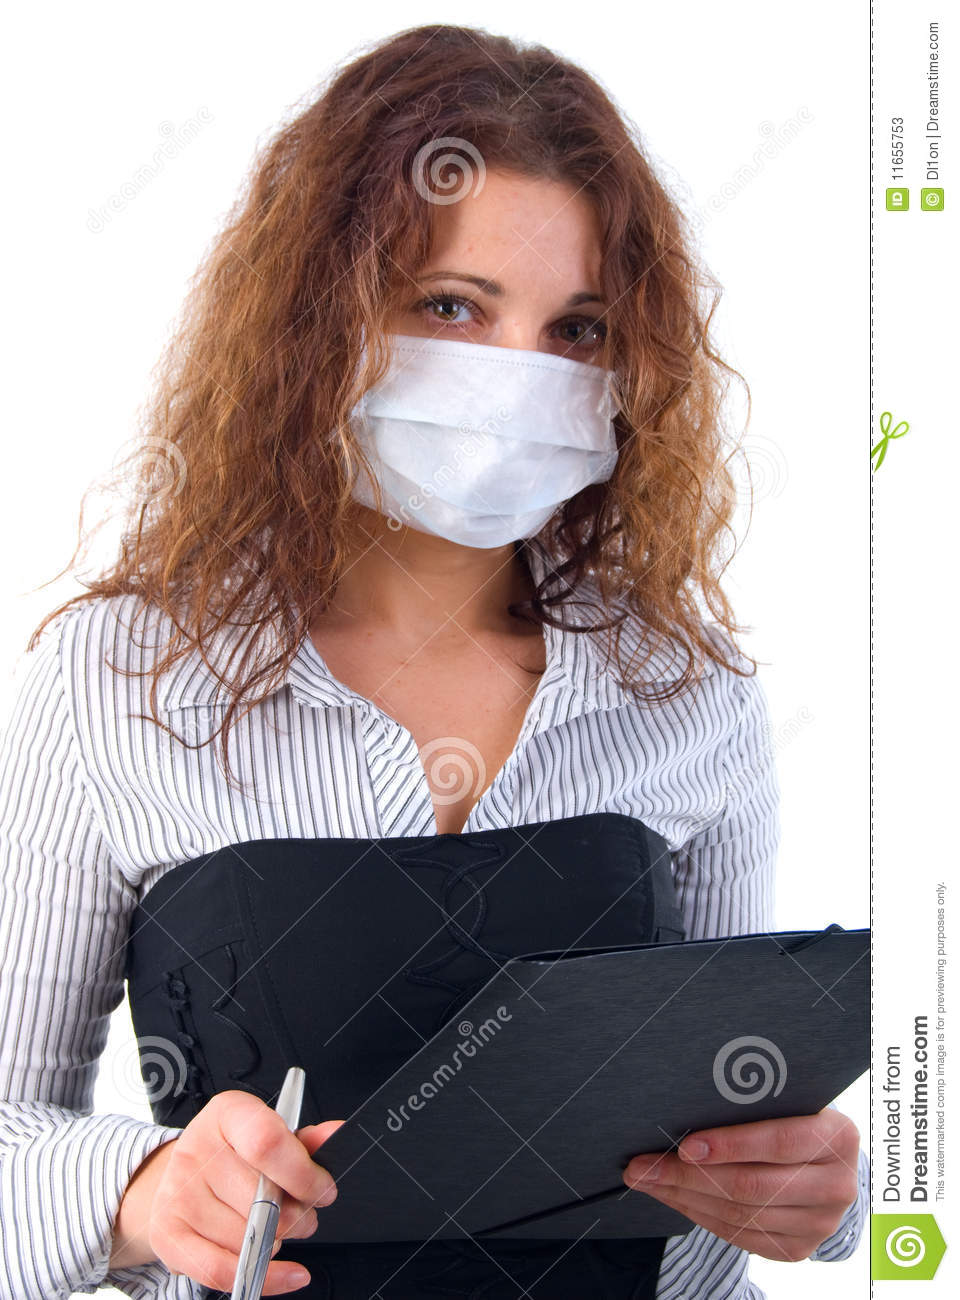mask: (343, 333, 619, 557)
